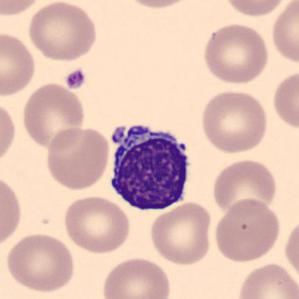Lymphocyte: (103, 116, 198, 215)
Platelets: (64, 67, 87, 91)
RBC: (198, 87, 271, 155), (212, 197, 282, 264), (200, 20, 271, 86), (26, 0, 100, 63), (20, 81, 87, 150), (4, 231, 76, 294), (148, 200, 214, 267), (44, 125, 111, 191), (61, 194, 132, 254), (210, 156, 279, 216), (100, 255, 173, 299), (0, 30, 38, 97), (235, 260, 298, 299), (0, 171, 24, 251), (270, 67, 299, 133), (269, 0, 298, 66), (220, 0, 291, 18), (0, 98, 18, 167), (282, 216, 299, 282), (119, 0, 196, 11), (0, 0, 44, 18)
